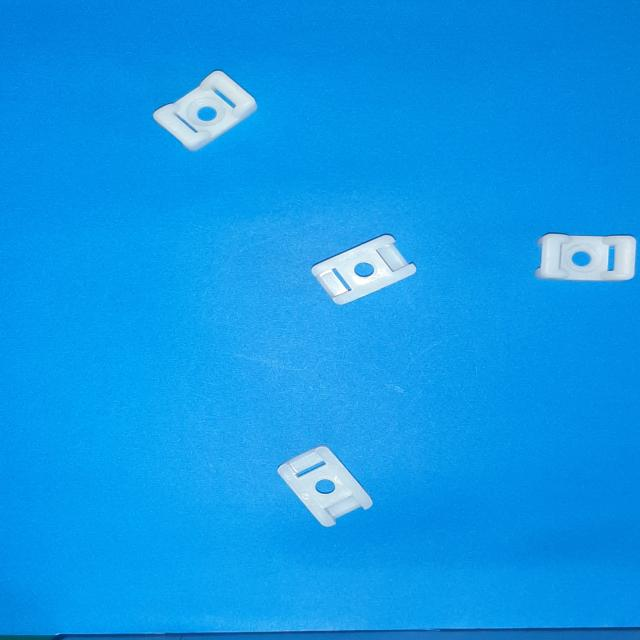false_1: (278, 445, 372, 526), (312, 235, 417, 305)
true: (153, 70, 257, 151), (535, 234, 637, 281)
true_center: (197, 107, 217, 121), (572, 252, 591, 266)
